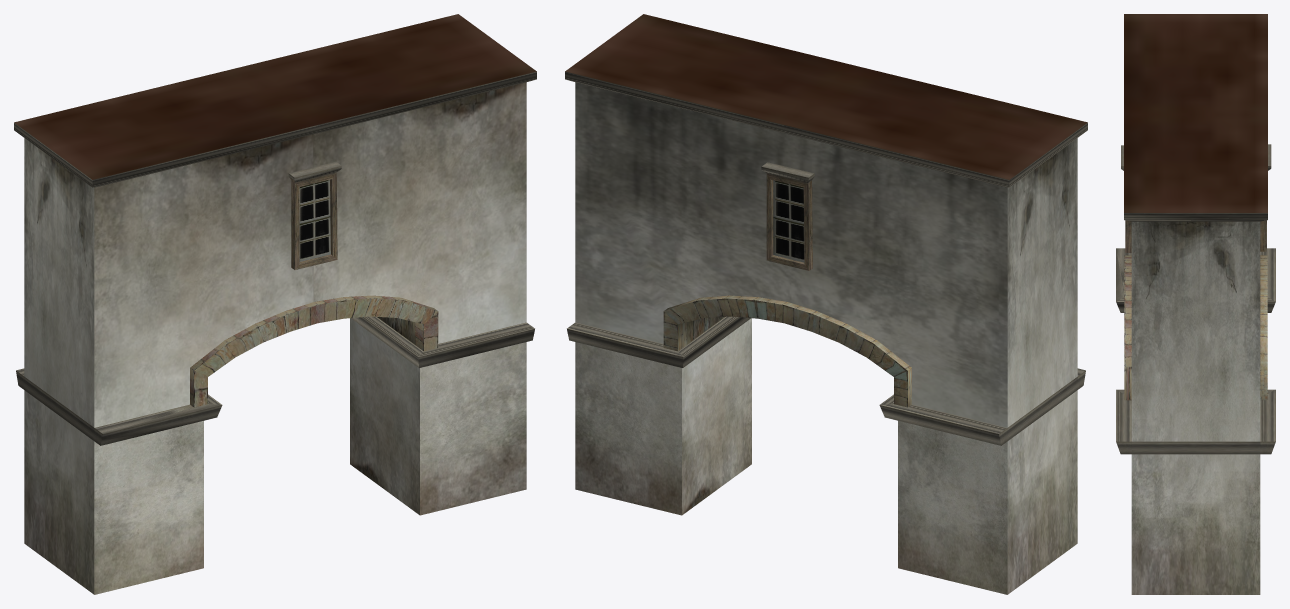
Rendered from english_arch_a.fbx.
3 views of the same model, side by side, from view 1: azimuth 30°, elevation 25°; view 2: azimuth 150°, elevation 25°; view 3: azimuth 270°, elevation 25° (orthographic). The views are drawn at different scales.
Visible parts, largest first — view 1: arch_a, window_01; view 2: arch_a, window_02; view 3: arch_a, window_02, window_01.
Boxes of the visible parts, bbox=[...] form: arch_a: bbox=[14, 14, 536, 594]; window_01: bbox=[288, 161, 341, 269]; arch_a: bbox=[565, 14, 1087, 594]; window_02: bbox=[761, 162, 814, 270]; arch_a: bbox=[1116, 14, 1275, 594]; window_02: bbox=[1260, 144, 1271, 251]; window_01: bbox=[1121, 145, 1131, 252].
Bounding box in the file's own units: 5141 × 4640 × 1746.
Materials: 1 (1 with a texture image).
